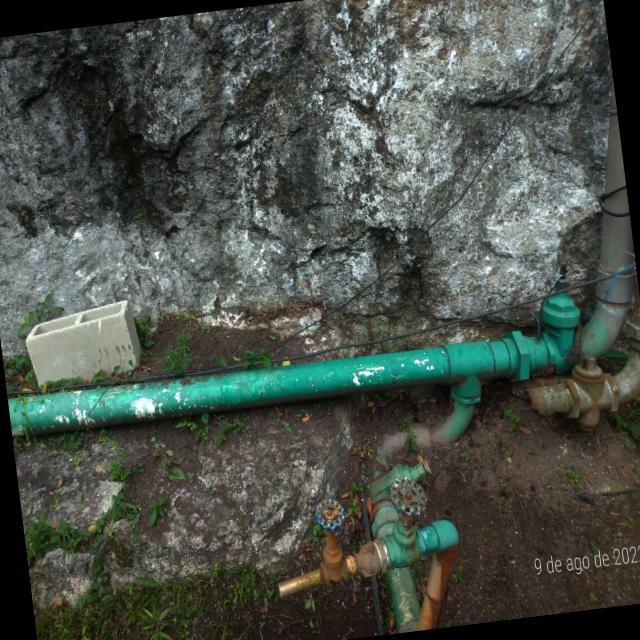gas: (7, 330, 557, 439), (308, 516, 459, 576), (521, 363, 640, 424), (372, 485, 418, 631)
